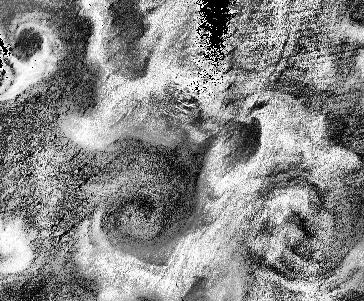AE: (90, 167, 180, 276)
CE: (9, 16, 62, 74)
